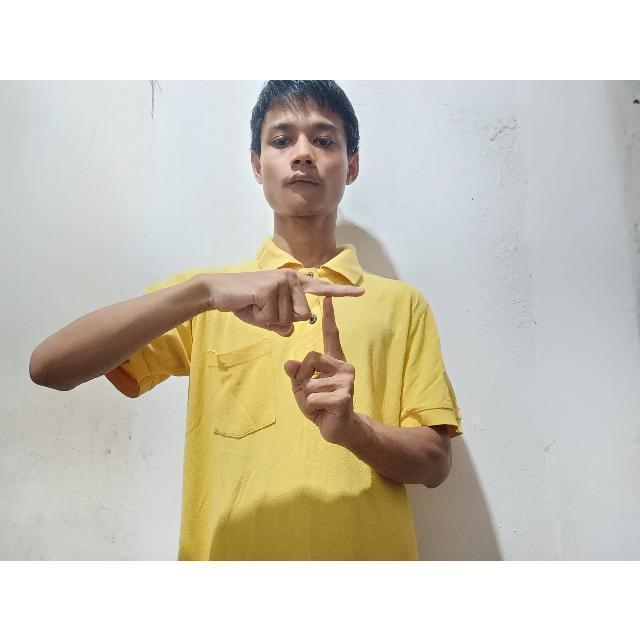T: (240, 261, 374, 431)
